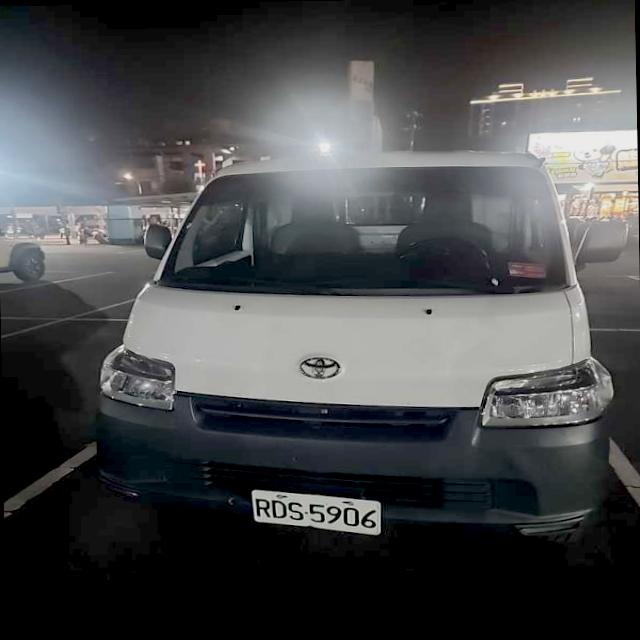license plate: (252, 489, 380, 534)
